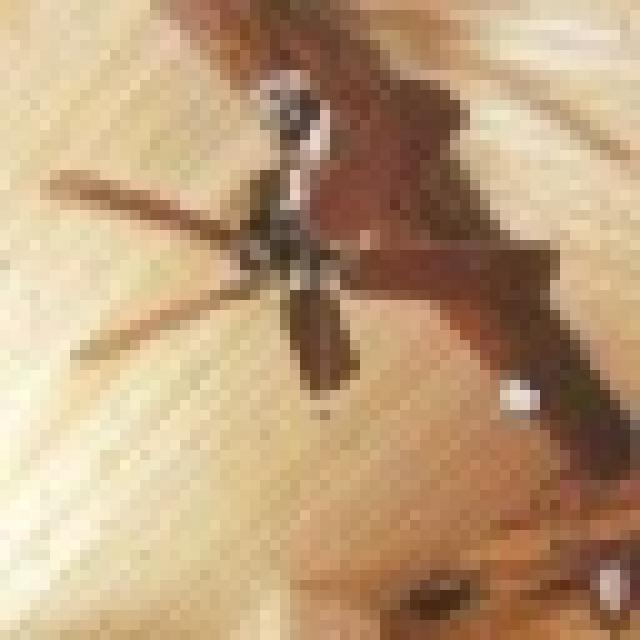Bulb: (42, 125, 590, 421)
